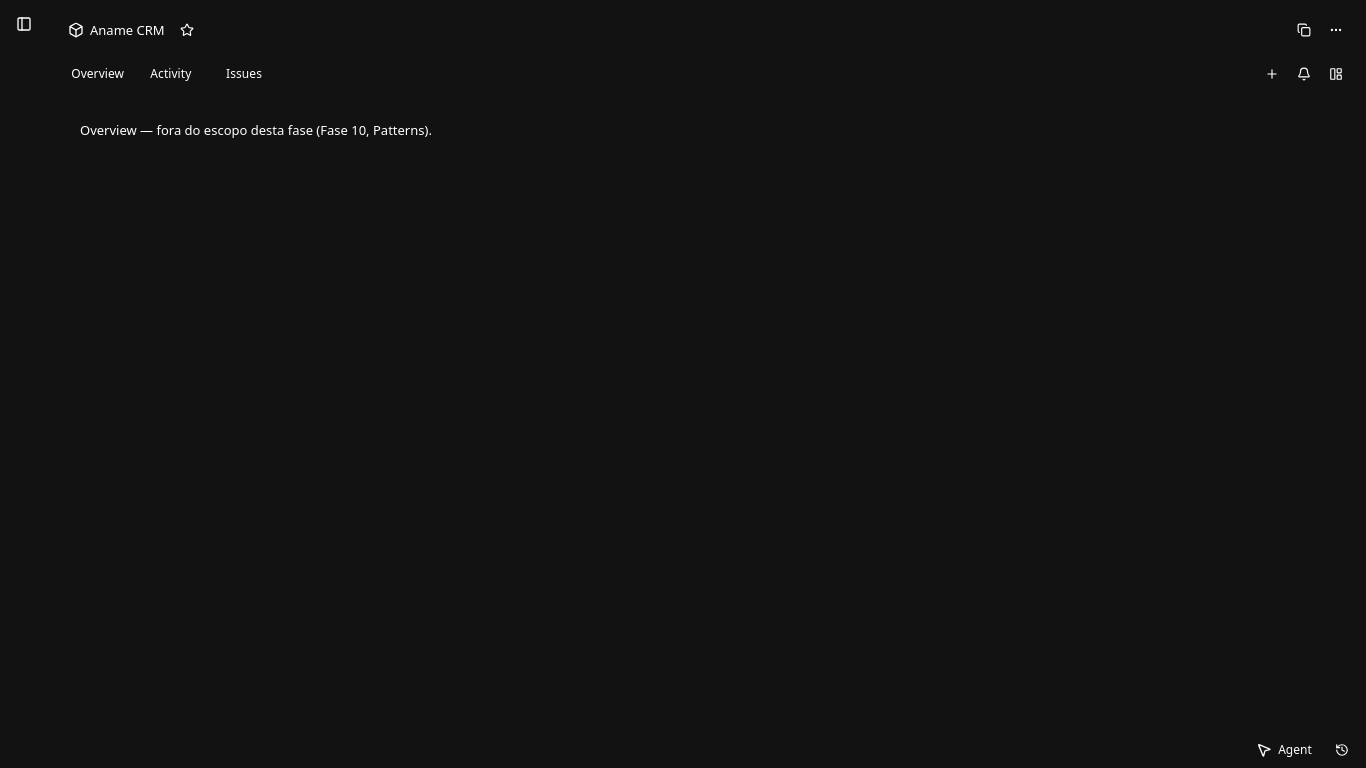
Test: ProjectDetailPage: chat do agente no painel direito › o historico troca de verdade de conversa (revisao de codigo, bloqueante 2)
What coordinates should you click on to do the following:
click the button "Agent"
I would click on:
 (1284, 750)
Its box is [1244,736,1324,764].
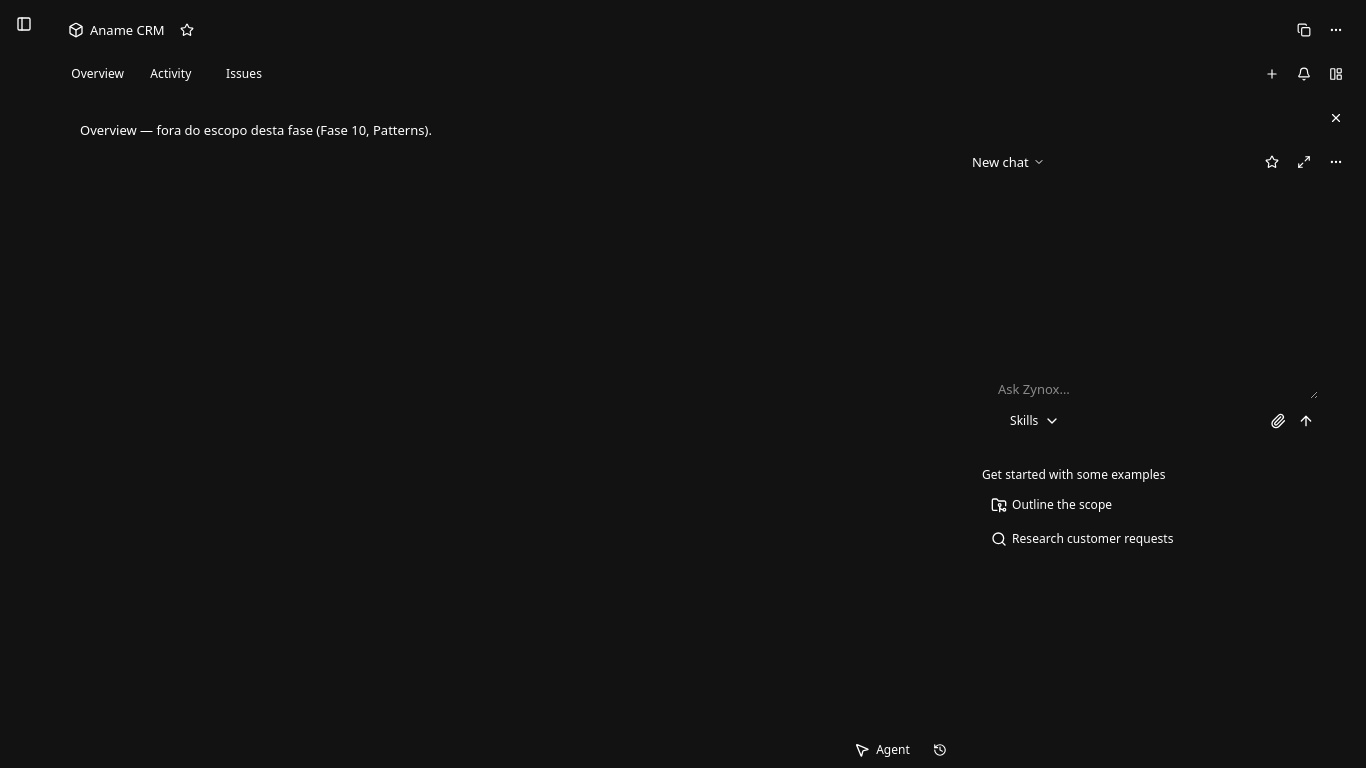
Expected: the text "Get started with some examples" is shown, [982,466,1166,483]
What coordinates should you click on to do the following:
click the button with aria-label "Switch agent chat"
I would click on:
 (1008, 162)
Its box is [966,148,1051,176].
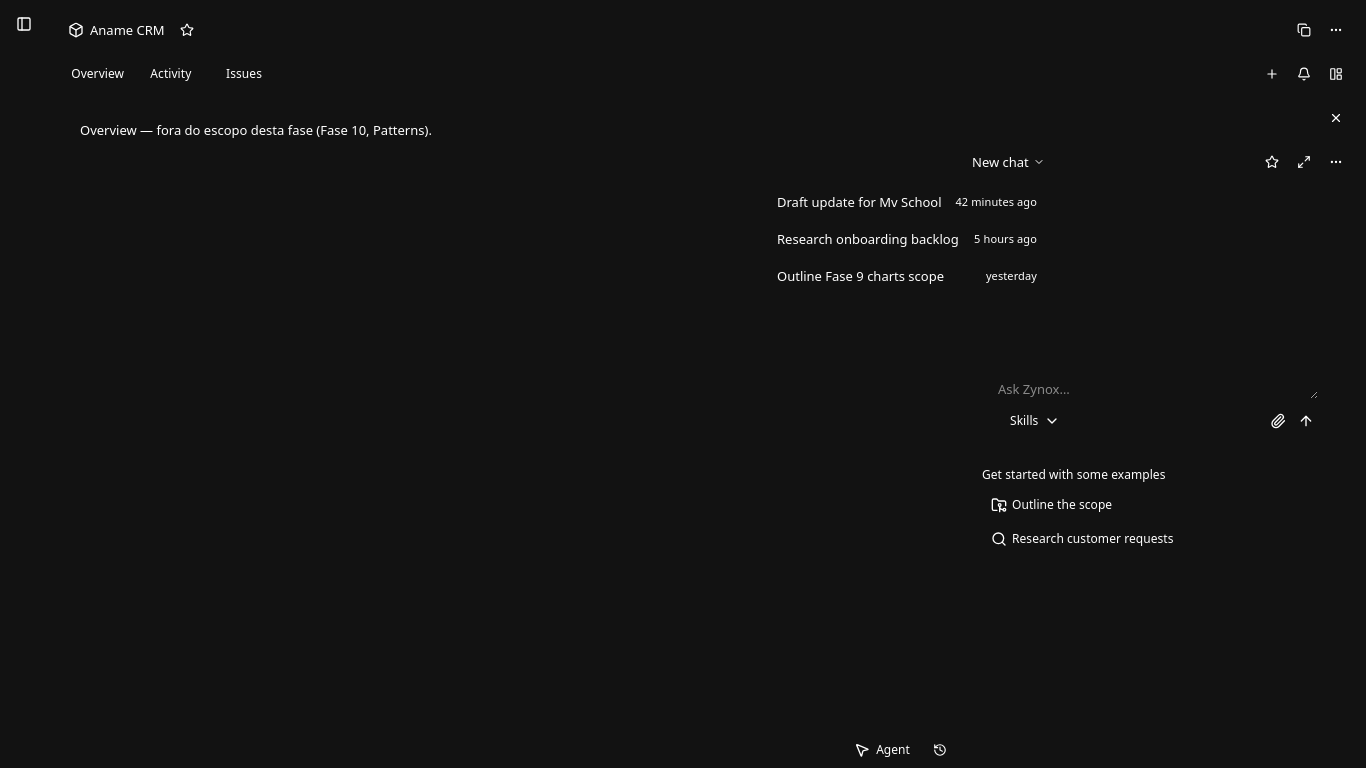
What coordinates should you click on to do the following:
click the button "Draft update for Mv School 42 minutes ago"
I would click on:
 (907, 202)
Its box is [767,184,1047,220].
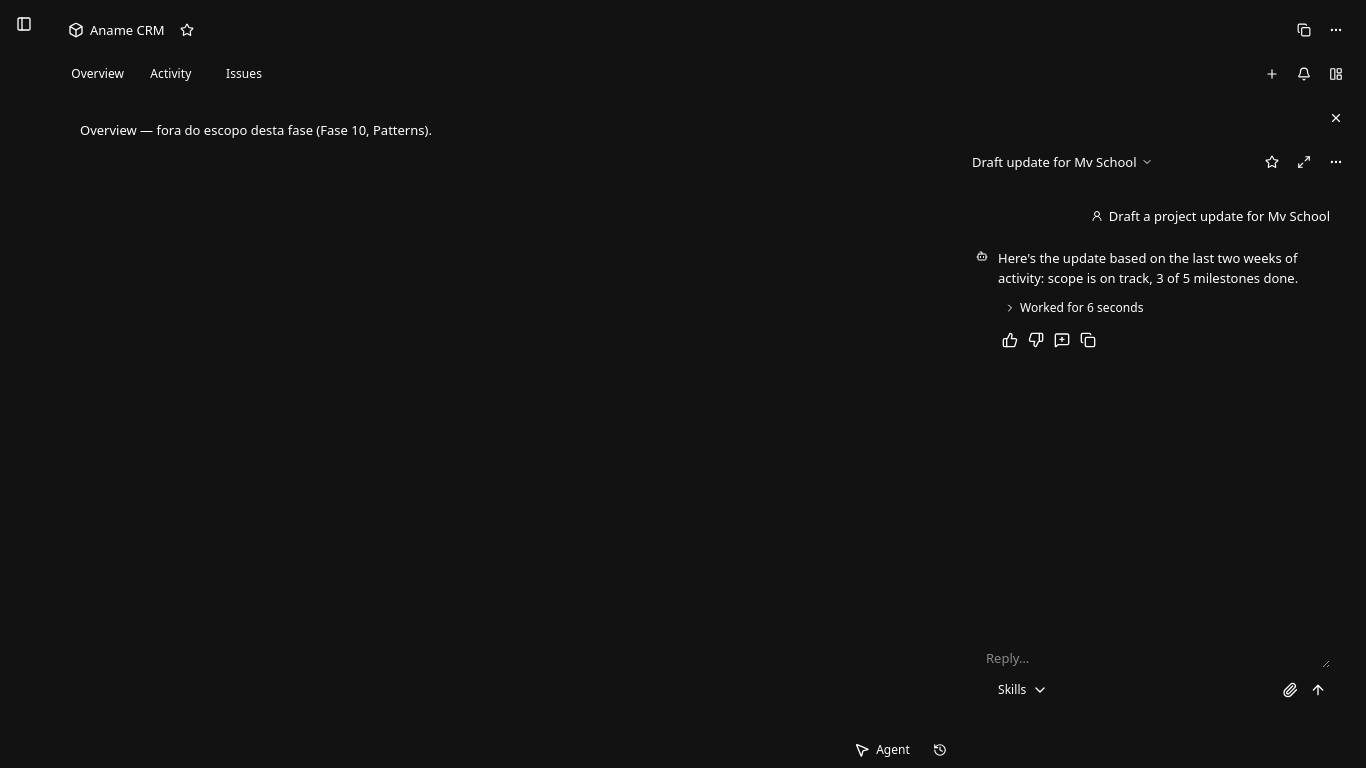
Expected: the text "Draft a project update for Mv School" is shown, [1109,206,1330,226]
Trocar para outra conversa do historico muda o conteudo de novo.
What coordinates should you click on to do the following:
click the button with aria-label "Switch agent chat"
I would click on:
 (1062, 162)
Its box is [966,148,1158,176].
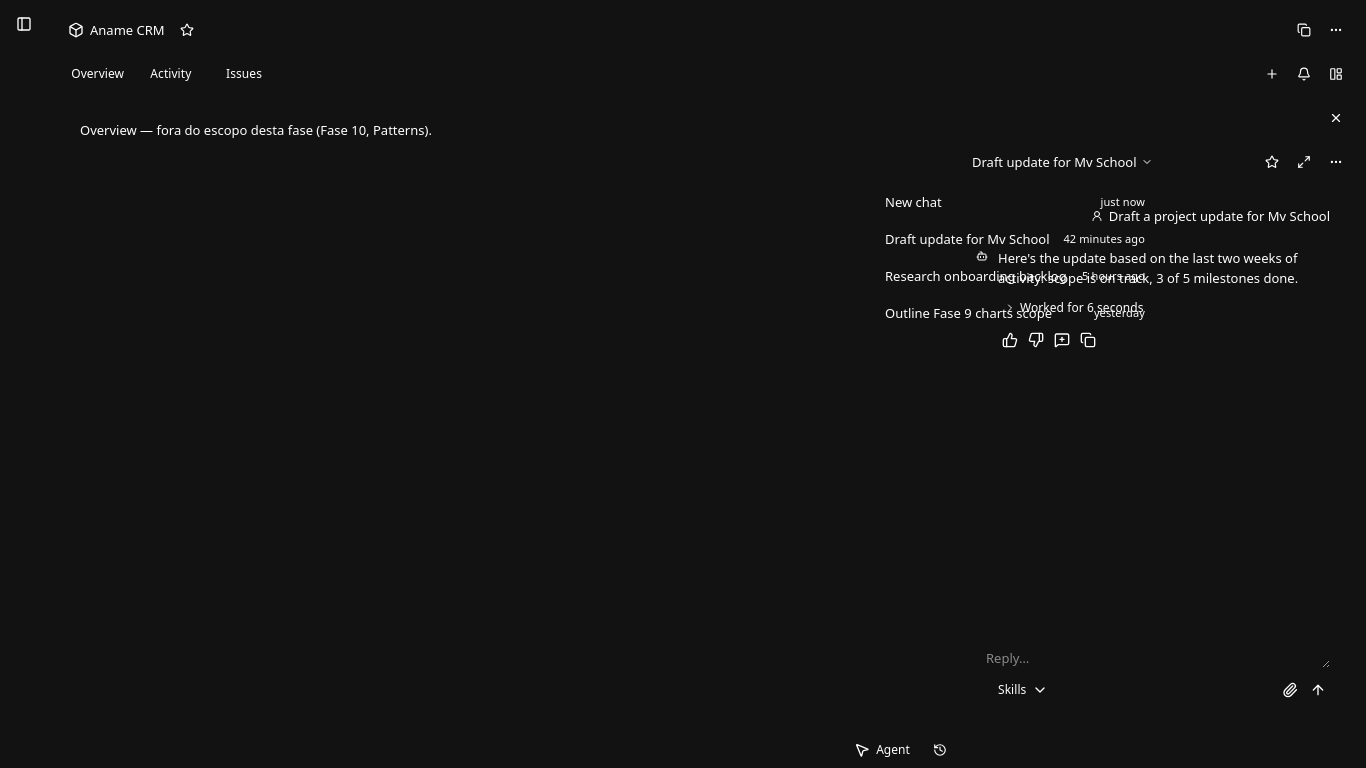
What coordinates should you click on to do the following:
click the button "Research onboarding backlog 5 hours ago"
I would click on:
 (1015, 276)
Its box is [875,258,1155,294].
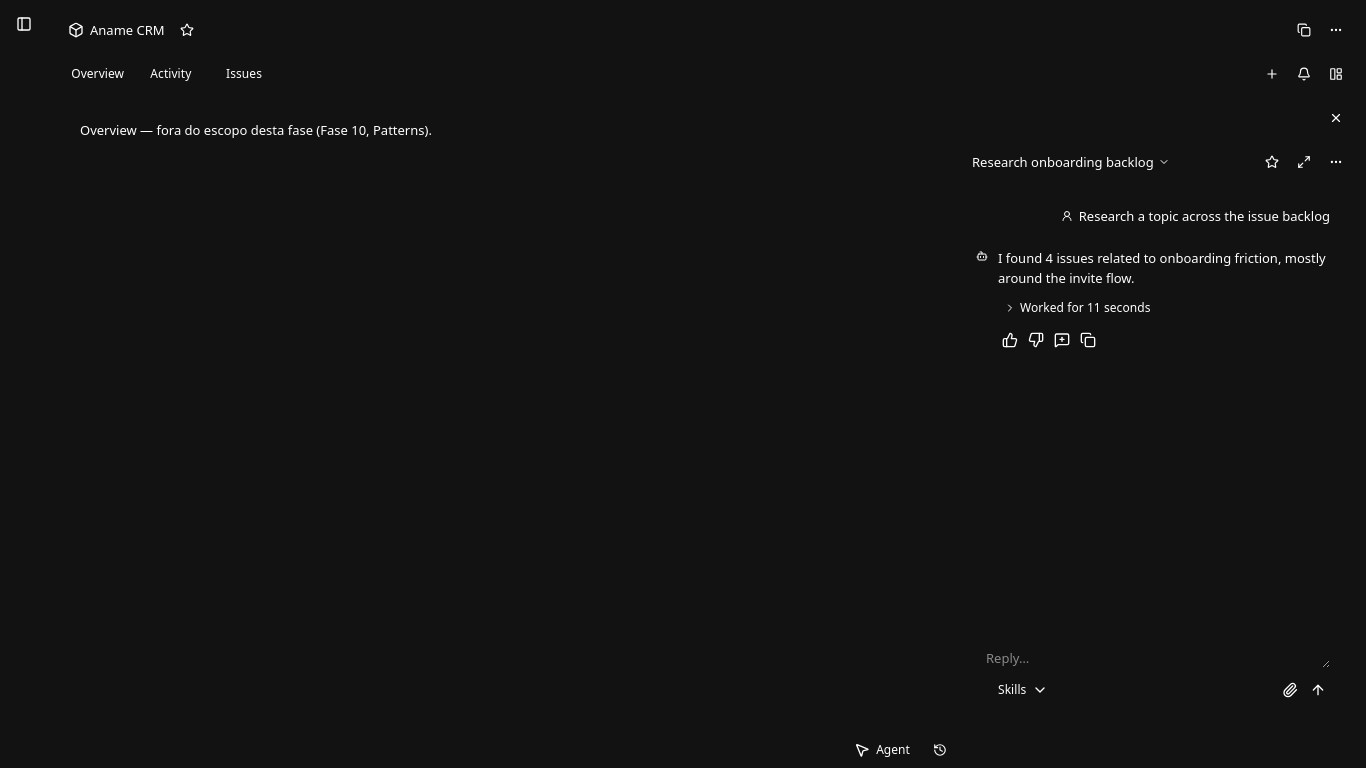
Expected: the text "Research a topic across the issue backlog" is shown, [1079,206,1330,226]
